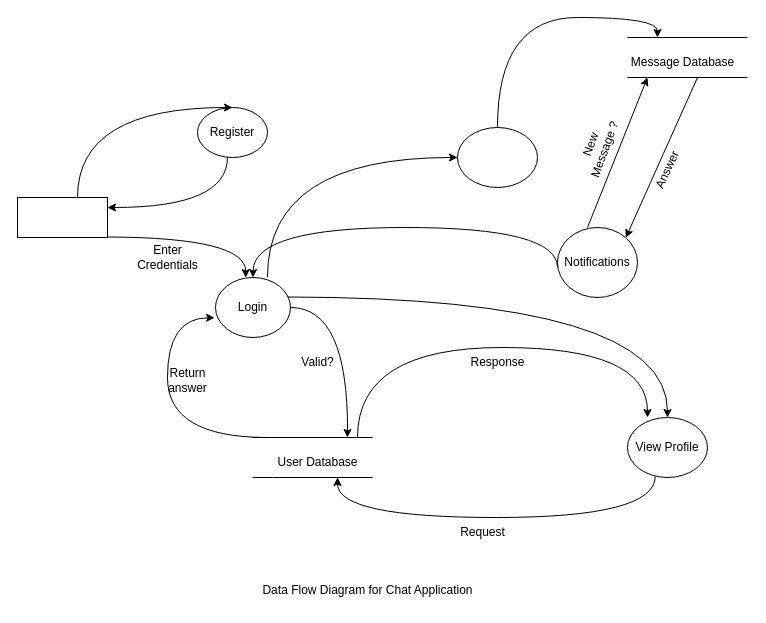
Some shapes in this 766 by 623 pixel diagram are drawn without their labels. The shapes that lost their labels are listed below. From the top down, each one's box as (x1, y1, x2, y2) in pixels, then its label:
(456, 126, 538, 188): Send Message
(16, 196, 108, 238): User
